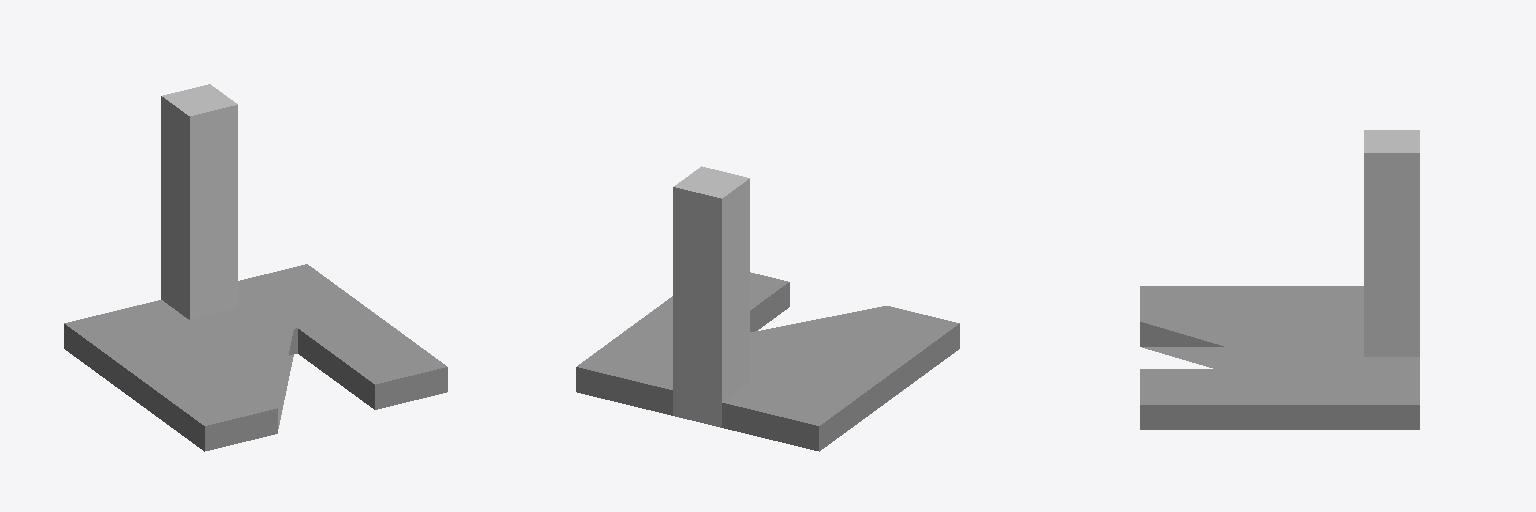
The model's file is hang4_vert.obj.
3 renders of one model, left to right at view 1: azimuth 30°, elevation 25°; view 2: azimuth 150°, elevation 25°; view 3: azimuth 270°, elevation 25°, orthographic.
Visible parts, largest first — view 1: Cube, Cube.003; view 2: Cube, Cube.003; view 3: Cube, Cube.003.
Boxes of the visible parts, box(x1,y1,x2,y2) form: Cube: box(64, 264, 447, 451); Cube.003: box(161, 84, 237, 319); Cube: box(576, 272, 959, 451); Cube.003: box(673, 166, 749, 427); Cube: box(1140, 286, 1419, 429); Cube.003: box(1364, 130, 1419, 356).
Bounding box in the file's own units: 10 × 9 × 10.